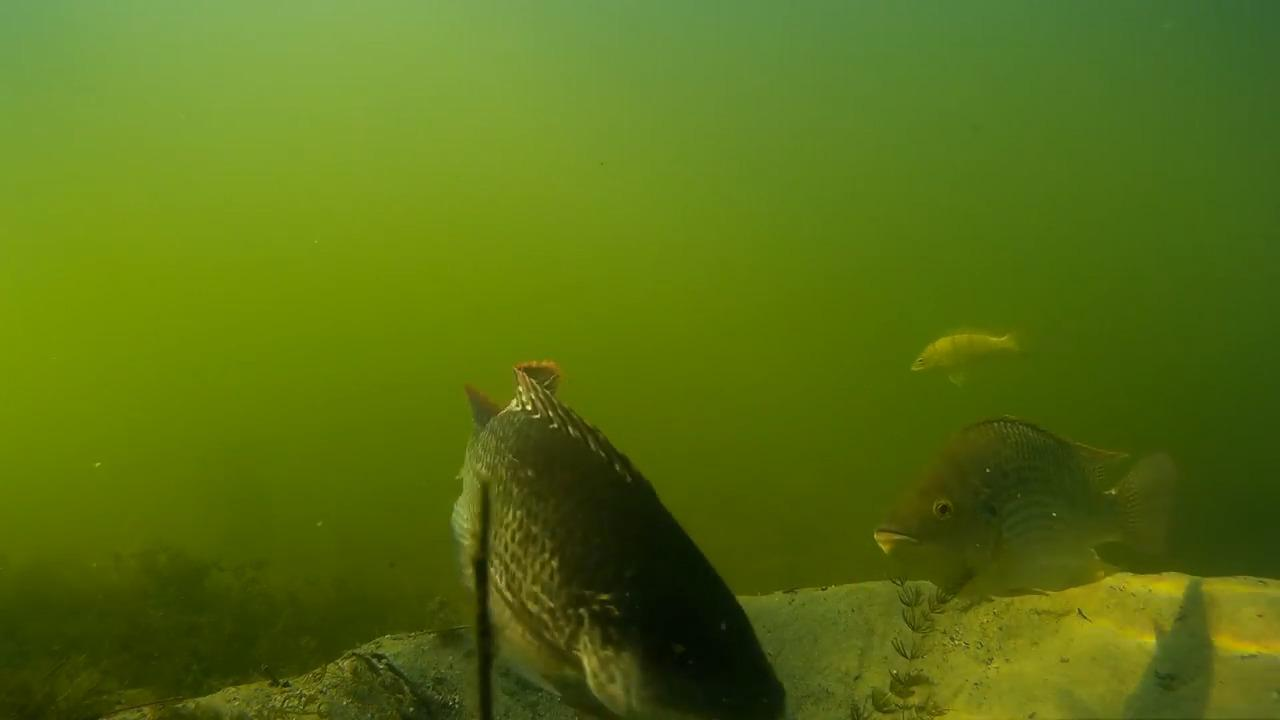Tilapia: (431, 346, 786, 720), (855, 408, 1188, 606), (899, 318, 1052, 400)
